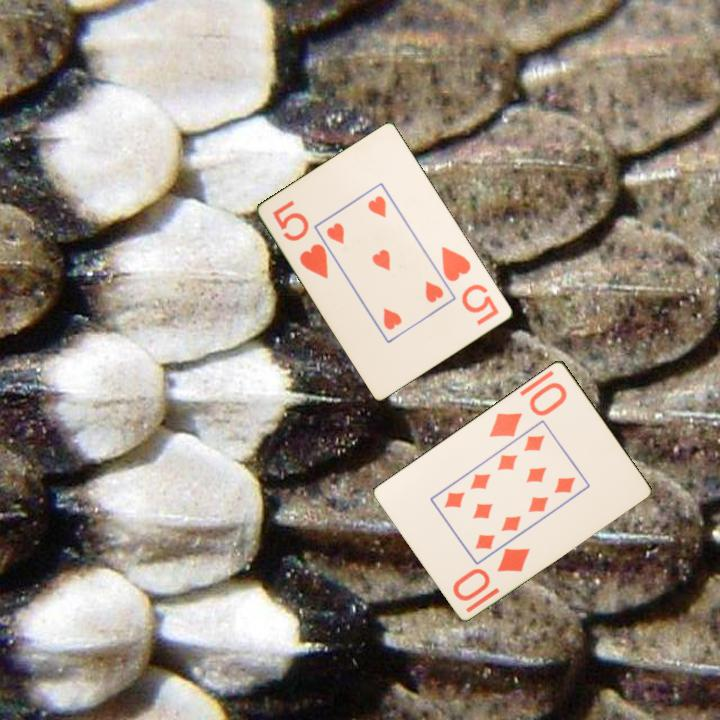10d: (485, 378, 570, 440), (449, 544, 533, 604)
5h: (438, 243, 502, 329), (269, 196, 332, 282)
